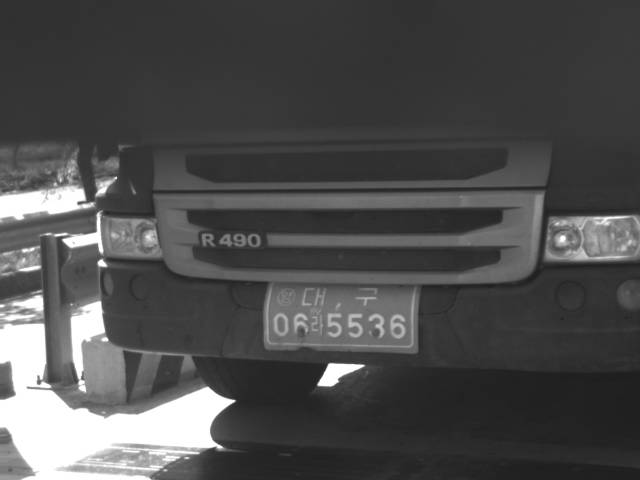car: (93, 47, 638, 406)
plate: (264, 279, 419, 352)
